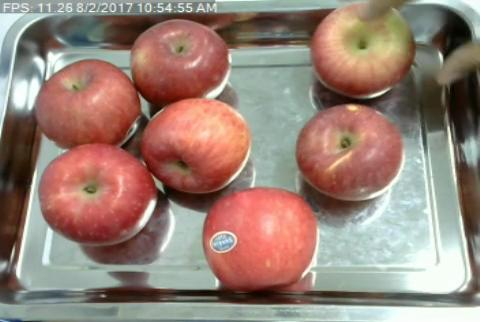apple: (38, 143, 157, 244), (203, 188, 318, 290), (296, 104, 404, 202), (142, 98, 250, 190), (36, 59, 140, 148), (131, 19, 231, 102)
